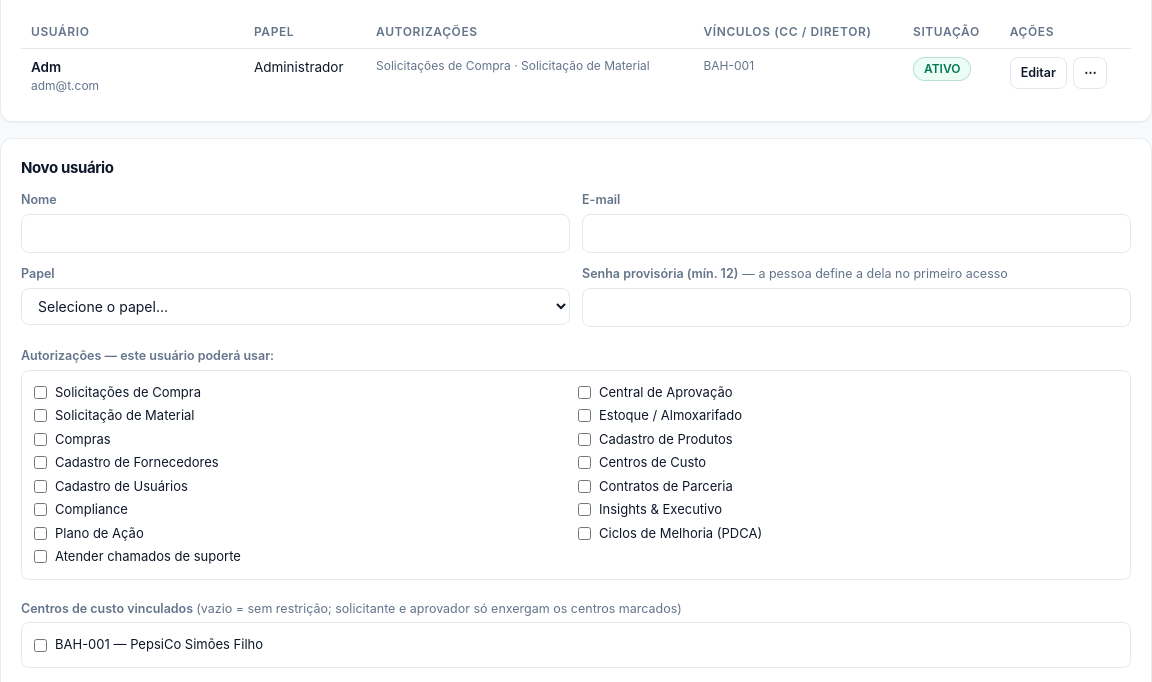
<Usuarios /> › editar o único administrador avisa que o papel dele não muda
Expected: the table with test id "tabela-usuarios" is shown, [21, 16, 1131, 103]
Click the button "Editar" at [1038, 73], box [1010, 56, 1067, 89]
(page scrolled)
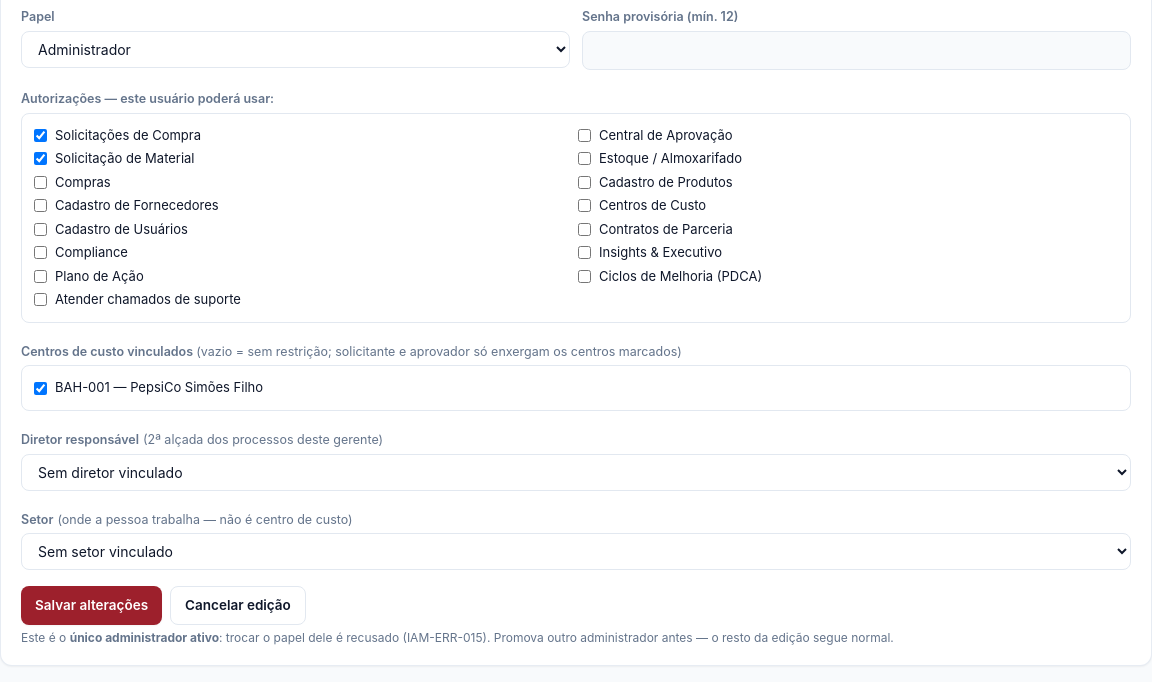
Expected: the text "trocar o papel dele é recusado" shows "IAM-ERR-015", [219, 630, 894, 644]
